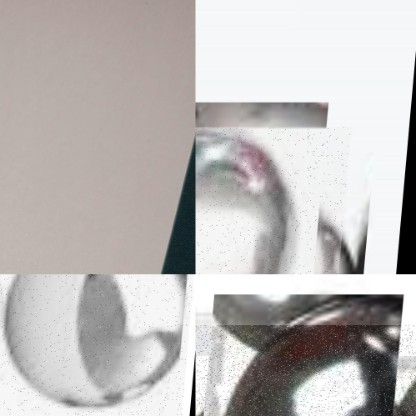ironball: (0, 274, 195, 415), (195, 127, 355, 274), (195, 325, 415, 415)
